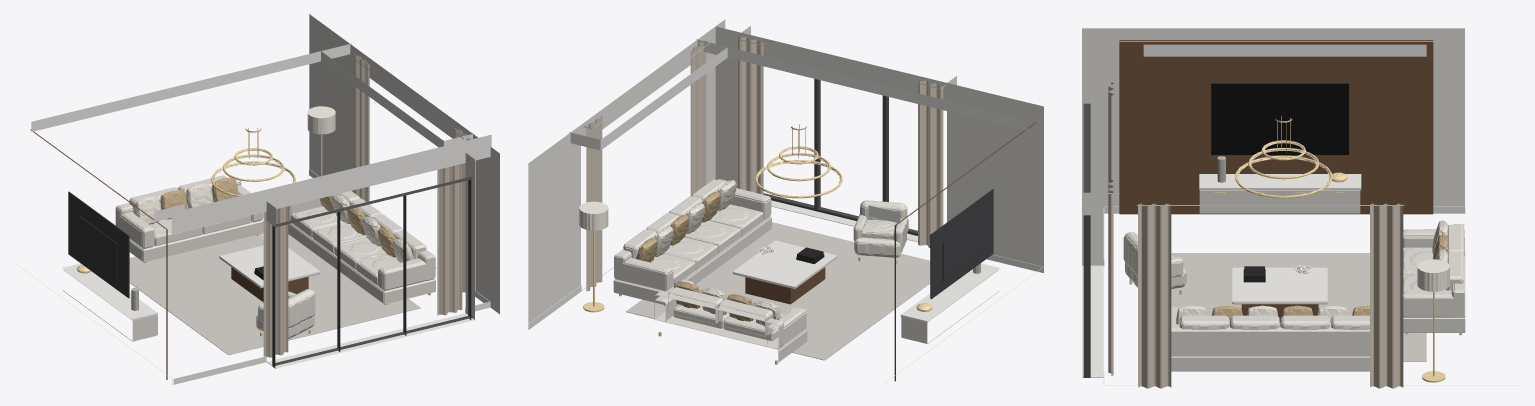
Rendered from LIVING.glb.
3 views of the same model, side by side, from view 1: azimuth 30°, elevation 25°; view 2: azimuth 150°, elevation 25°; view 3: azimuth 270°, elevation 25° (orthographic). The views are drawn at different scales.
Visible parts, largest first — view 1: WEB_LIVING; view 2: WEB_LIVING; view 3: WEB_LIVING.
Part boxes in pixels (x1,y1,x2,y2): WEB_LIVING: (16, 14, 499, 384); WEB_LIVING: (528, 19, 1043, 385); WEB_LIVING: (1082, 28, 1520, 388).
Bounding box in the file's own units: 5.82 × 3 × 6.
